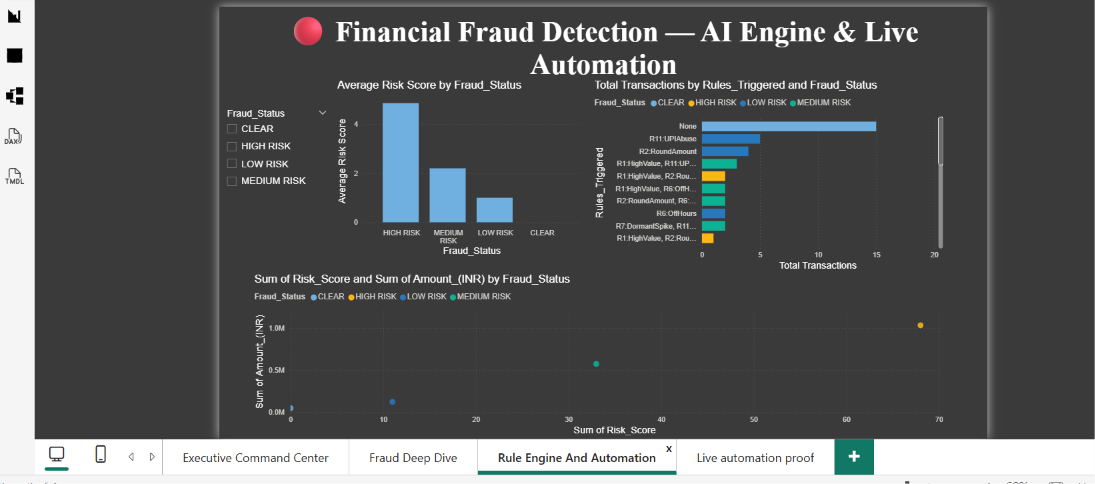

Layout of this report page (visuals, bound fields, positions):
{"tool":"powerbi","page":{"name":"Rule Engine And Automation","canvas":[1280,720],"ordinal":2},"visuals":[{"type":"textbox","box":[0,0,1280.7,280.7],"z":0},{"type":"barChart","fields":{"Category":["Transaction_data.Rules_Triggered"],"Series":["Transaction_data.Fraud_Status"],"Y":["Transaction_data.Total Transactions"]},"box":[619.3,119.3,591.2,324.6],"z":1000},{"type":"clusteredColumnChart","fields":{"Category":["Transaction_data.Fraud_Status"],"Y":["Transaction_data.Average Risk Score"]},"box":[191.2,119.3,414,300],"z":2000},{"type":"scatterChart","fields":{"X":["Sum(Transaction_data.Risk_Score)"],"Y":["Sum(Transaction_data.Amount_(INR))"],"Series":["Transaction_data.Fraud_Status"]},"box":[52.6,443.9,1157.9,275.4],"z":3000},{"type":"slicer","fields":{"Values":["Transaction_data.Fraud_Status"]},"box":[0,163.2,191.2,175.4],"z":4000}]}

Visuals, with their boxes on the page's 1280x720 design canvas (x1, y1, x2, y2). These are canvas units, not pixel positions in the 1095x484 screenshot, which may show the page scaled, cropped or inside an application window:
textbox: x1=0 y1=0 x2=1281 y2=281
barChart - Transaction_data.Rules_Triggered x Transaction_data.Fraud_Status: x1=619 y1=119 x2=1210 y2=444
clusteredColumnChart - Transaction_data.Fraud_Status x Transaction_data.Average Risk Score: x1=191 y1=119 x2=605 y2=419
scatterChart - Sum(Transaction_data.Risk_Score) x Sum(Transaction_data.Amount_(INR)): x1=53 y1=444 x2=1210 y2=719
slicer - Transaction_data.Fraud_Status: x1=0 y1=163 x2=191 y2=339
